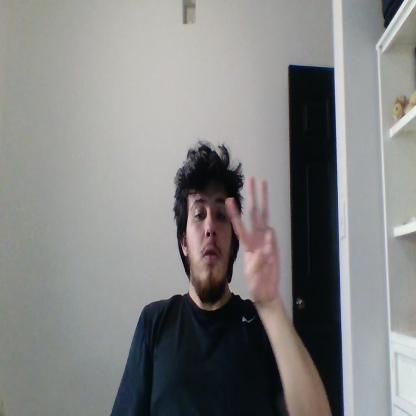W: (225, 176, 279, 298)
